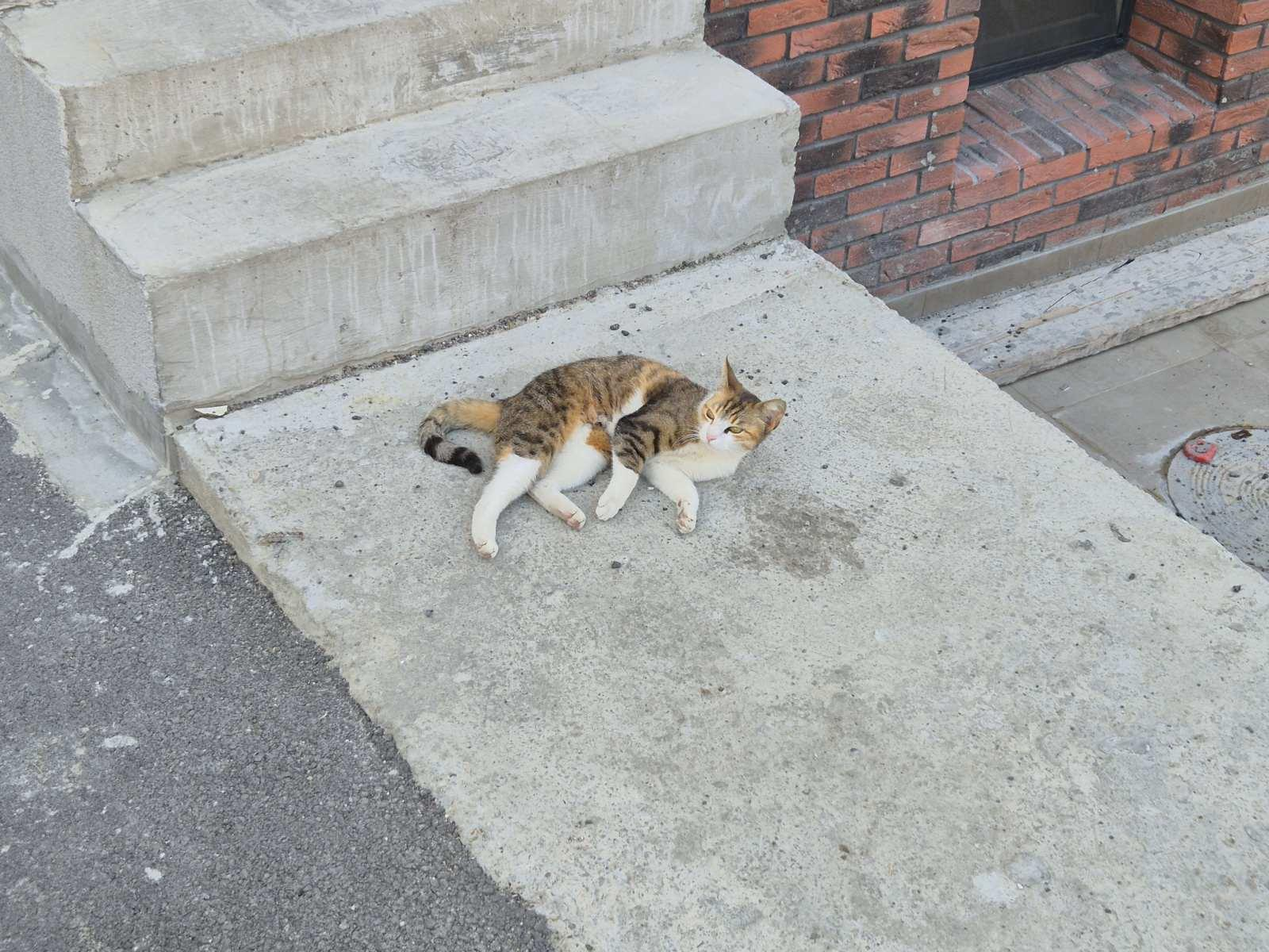macka: (421, 353, 787, 560)
